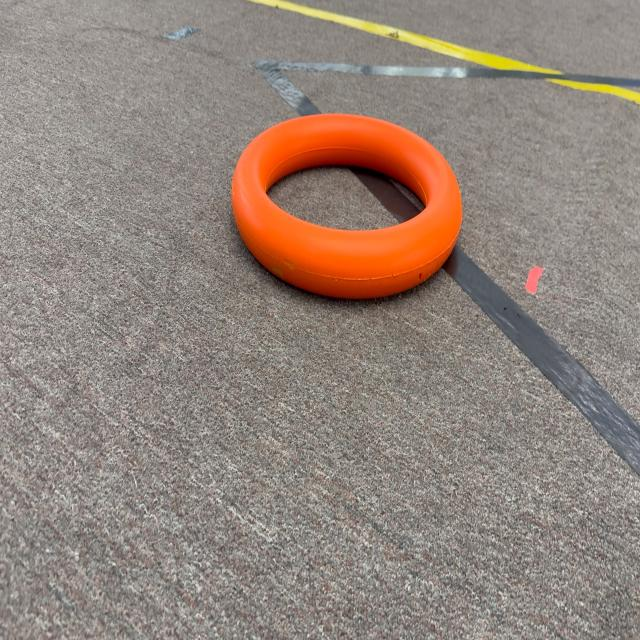note: (227, 92, 471, 324)
